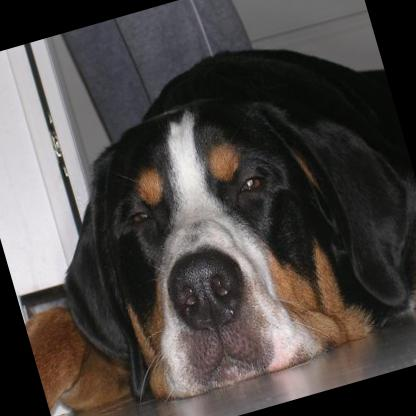Greater_Swiss_Mountain_dog: (0, 9, 416, 416)
